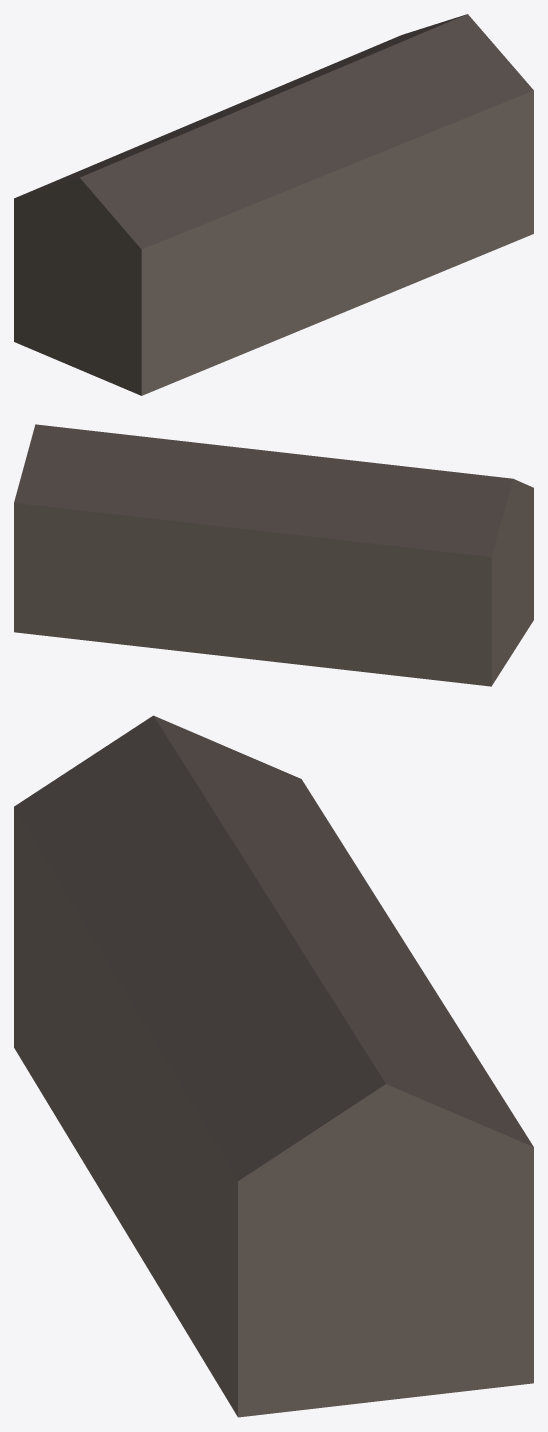
3 renders of one model, top to bottom at view 1: azimuth 30°, elevation 25°; view 2: azimuth 150°, elevation 25°; view 3: azimuth 270°, elevation 25°, orthographic. The views are drawn at different scales.
Visible parts, largest first — view 1: HP-w757497639; view 2: HP-w757497639; view 3: HP-w757497639.
Boxes of the visible parts, left/top/right/bottom form: HP-w757497639: left=14, top=14, right=533, bottom=395; HP-w757497639: left=14, top=424, right=533, bottom=686; HP-w757497639: left=14, top=715, right=533, bottom=1417.
Size of the model in its own units: 32.88 by 12.06 by 17.96.
